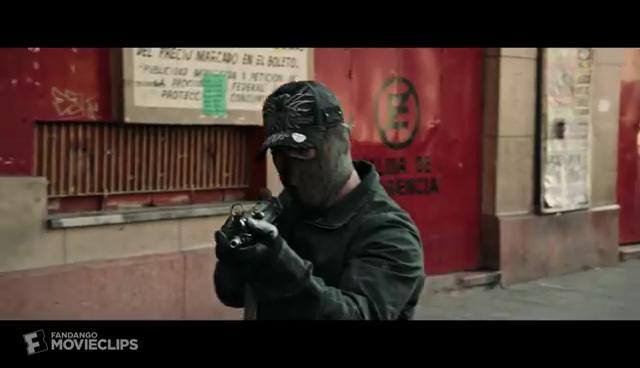criminal: (213, 80, 426, 321)
weapon: (220, 192, 283, 254)
